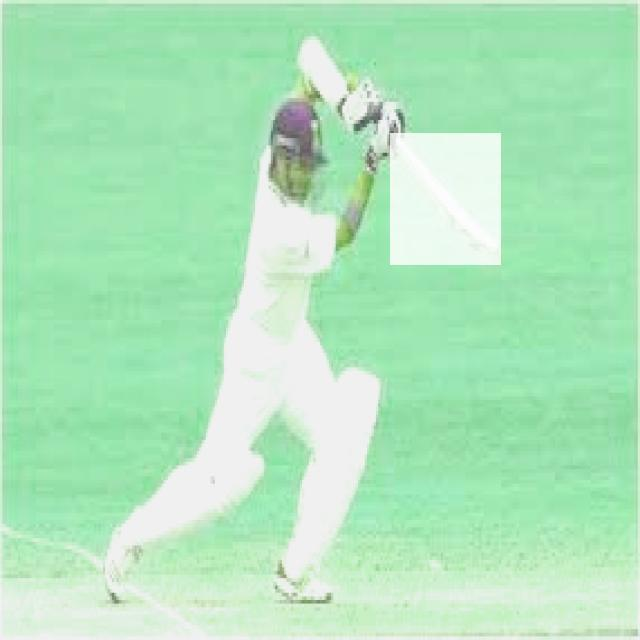bat: (390, 134, 504, 264)
toe: (483, 240, 502, 263)
